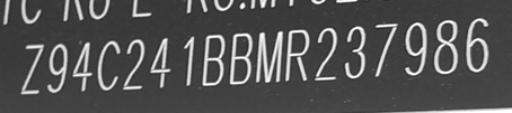letter: (432, 15, 460, 78), (402, 19, 430, 78), (254, 30, 284, 85), (464, 17, 492, 74), (372, 21, 398, 80), (146, 36, 174, 89), (94, 38, 122, 91), (18, 42, 46, 95), (342, 25, 368, 82), (312, 26, 338, 81), (284, 28, 308, 83), (228, 31, 252, 86), (201, 33, 225, 88), (70, 40, 94, 93), (46, 42, 70, 95), (122, 37, 144, 90), (180, 34, 196, 89)
